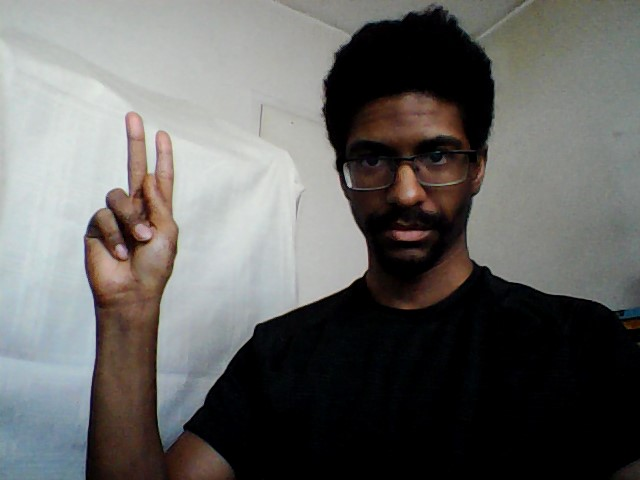k: (81, 110, 184, 312)
